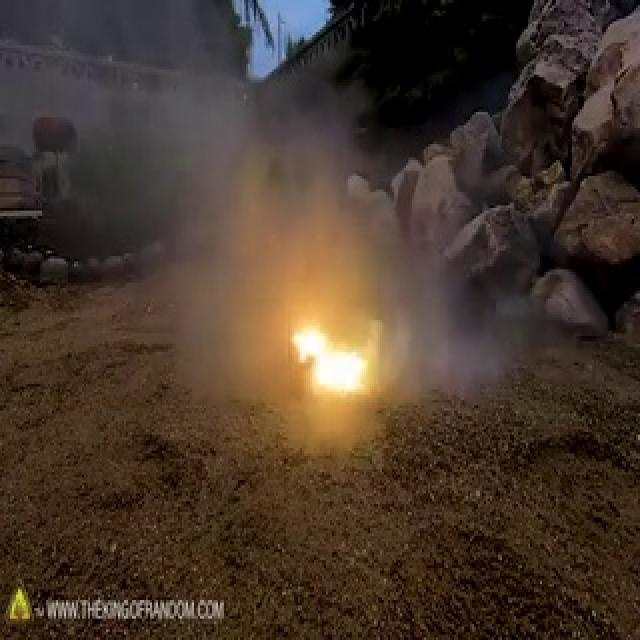Fire: (286, 320, 370, 406)
